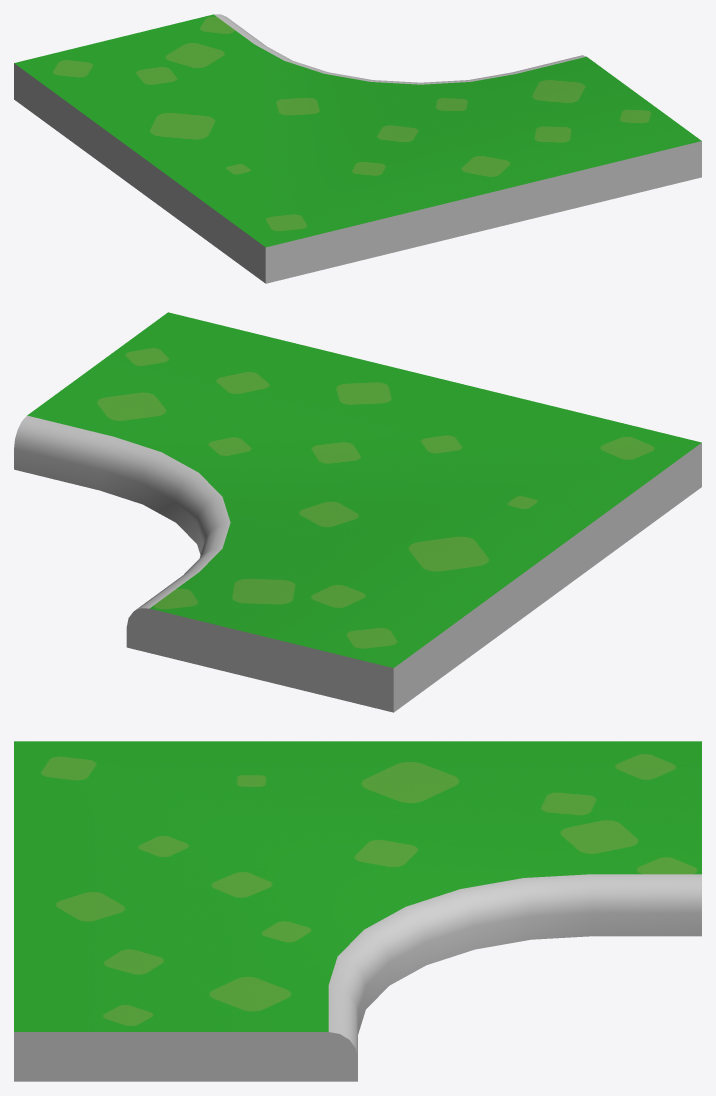
File: GrassFloor_InnerCorner_1.fbx
3 renders of one model, top to bottom at view 1: azimuth 30°, elevation 25°; view 2: azimuth 150°, elevation 25°; view 3: azimuth 270°, elevation 25°, orthographic. The views are drawn at different scales.
Parts seen in each view (by area): view 1: GrassFloor_InnerCorner_1; view 2: GrassFloor_InnerCorner_1; view 3: GrassFloor_InnerCorner_1.
Boxes of the visible parts, <box> form: GrassFloor_InnerCorner_1: <box>14,14,701,283</box>; GrassFloor_InnerCorner_1: <box>14,312,701,712</box>; GrassFloor_InnerCorner_1: <box>14,741,701,1081</box>.
Bounding box in the file's own units: 4 × 0.3187 × 4.
